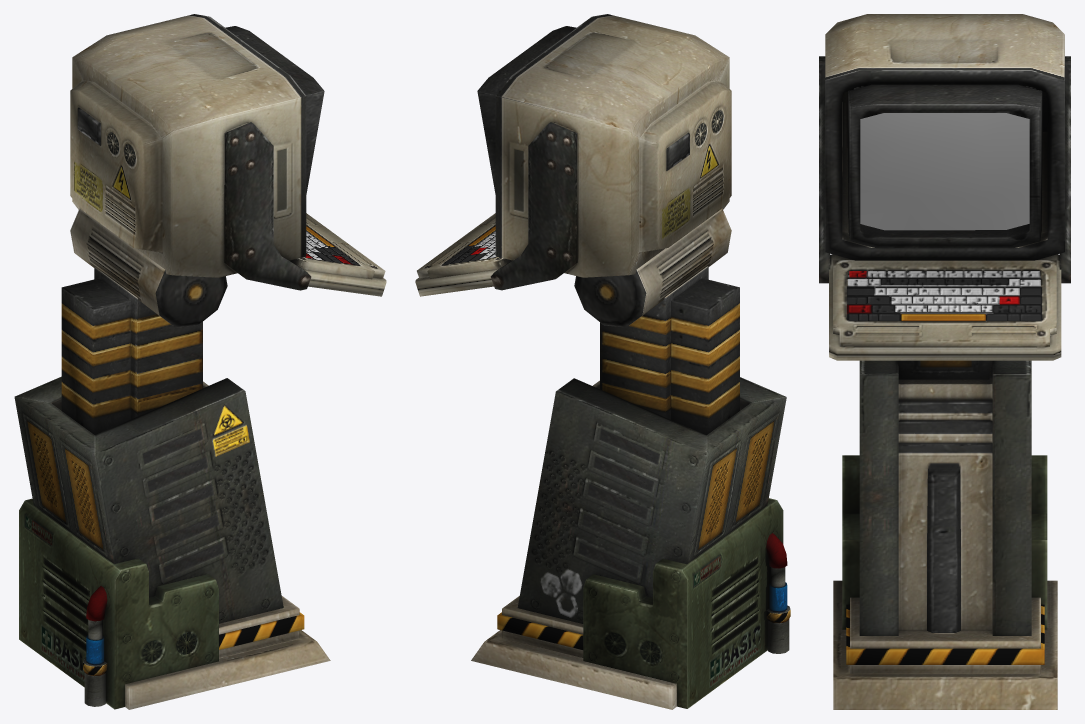
Rendered from computer_terminal.fbx.
3 renders of one model, left to right at view 1: azimuth 30°, elevation 25°; view 2: azimuth 150°, elevation 25°; view 3: azimuth 270°, elevation 25°, orthographic. The views are drawn at different scales.
Parts seen in each view (by area): view 1: computer; view 2: computer; view 3: computer, monitor.
Boxes of the visible parts, x1,y1,x2,y2 form: computer: [14, 14, 386, 709]; computer: [415, 14, 790, 709]; computer: [819, 14, 1070, 709]; monitor: [860, 113, 1029, 230].
Bounding box in the file's own units: 3.38 × 6.55 × 2.39.
